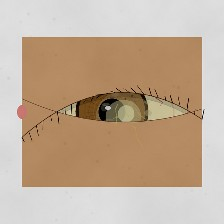corneal_ulcer: (95, 93, 152, 139)
